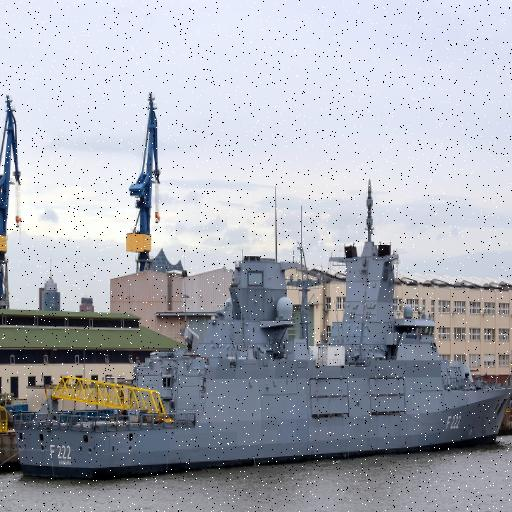Fragata: (11, 172, 512, 484)
